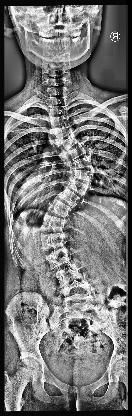Vertebrae: (32, 218, 72, 230), (33, 235, 69, 248), (49, 268, 87, 280), (51, 192, 89, 204), (65, 170, 103, 182), (38, 253, 76, 263), (61, 183, 99, 193), (41, 204, 77, 214), (61, 284, 97, 294), (55, 138, 85, 148), (59, 149, 96, 157), (46, 129, 80, 137), (64, 161, 98, 168), (44, 117, 72, 125), (46, 106, 70, 114), (42, 98, 72, 104)
